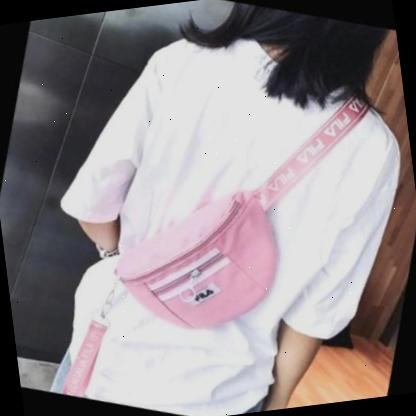bag: (101, 176, 294, 348)
